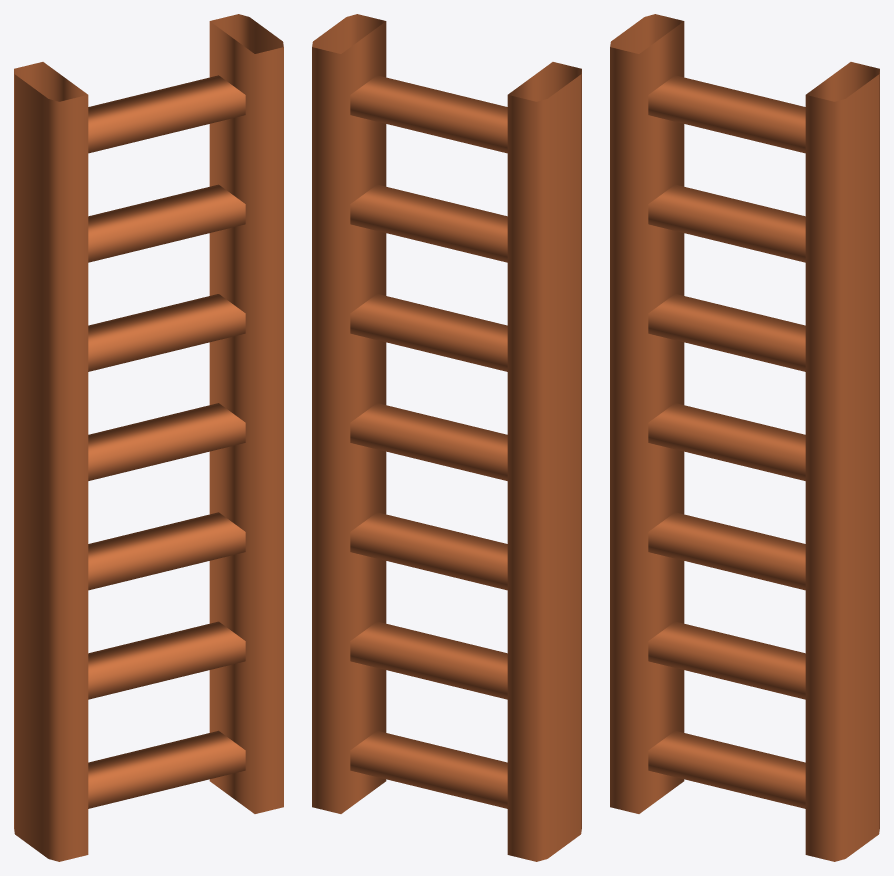
File: ladder.glb
3 renders of one model, left to right at view 1: azimuth 30°, elevation 25°; view 2: azimuth 150°, elevation 25°; view 3: azimuth 330°, elevation 25°, orthographic.
Parts seen in each view (by area): view 1: ladder; view 2: ladder; view 3: ladder.
Part boxes in pixels (x1=…): ladder: x1=14, y1=14, x2=283, y2=861; ladder: x1=312, y1=14, x2=581, y2=861; ladder: x1=610, y1=14, x2=879, y2=861.
Size of the model in its own units: 0.3231 by 1 by 0.1078.
Materials: 1 (1 with a texture image).
